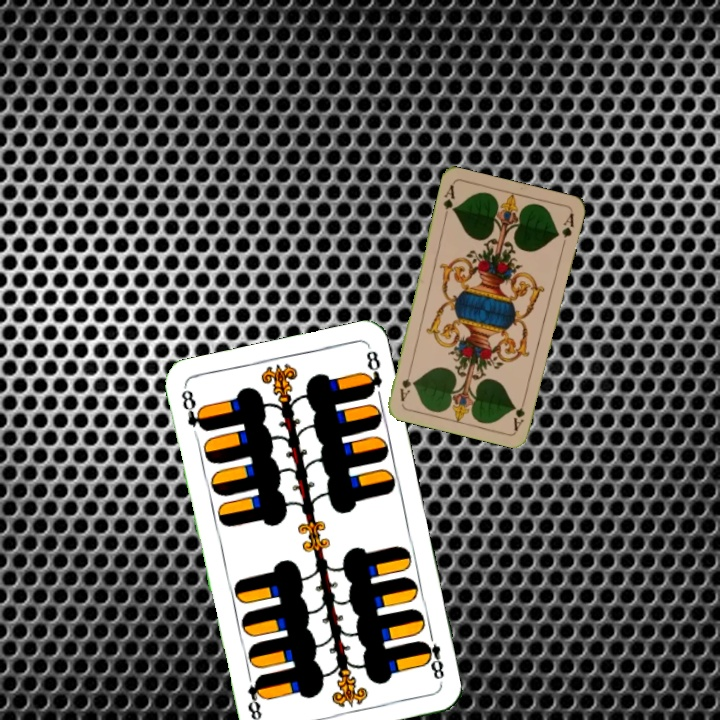E8: (417, 628, 447, 686), (177, 384, 209, 434)
GA: (510, 393, 529, 433), (439, 181, 457, 221)
